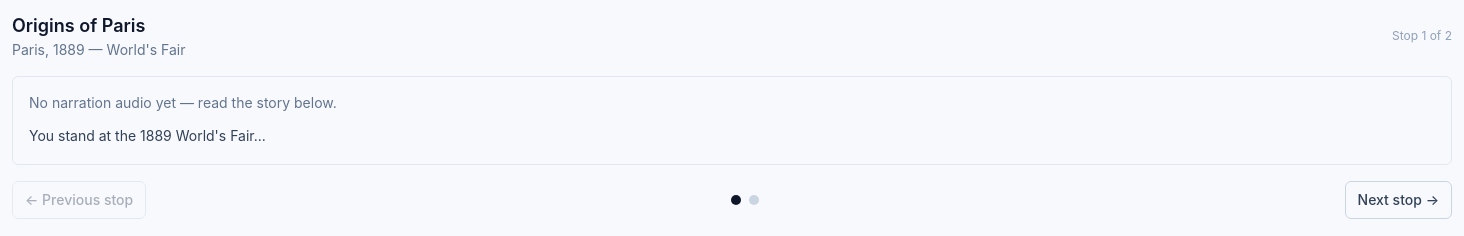
Test: JourneyViewer › navigates to the next stop and loads its own narration
The width and height of the screenshot is (1464, 236).
Click the button "Next stop →" at (1398,200), box [1345, 181, 1452, 219]
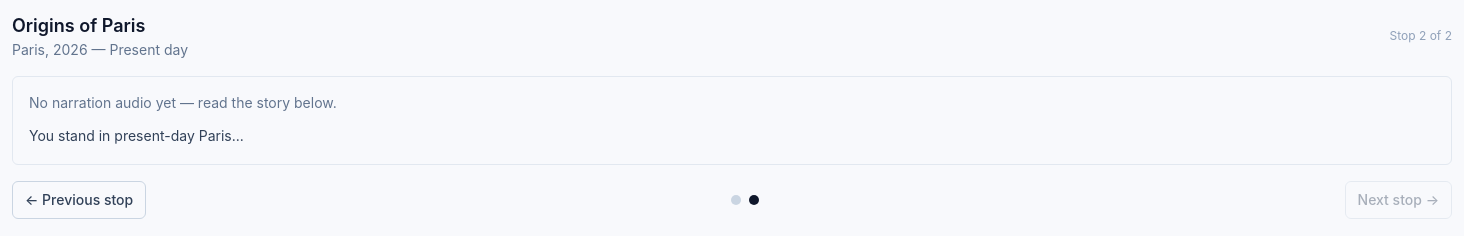
Check: the text "Stop 2 of 2" is shown, box [1390, 28, 1452, 44]
Check: the text "You stand in present-day Paris..." is shown, box [29, 127, 244, 144]
Check: the text "You stand at the 1889 World's Fair..." is gone
